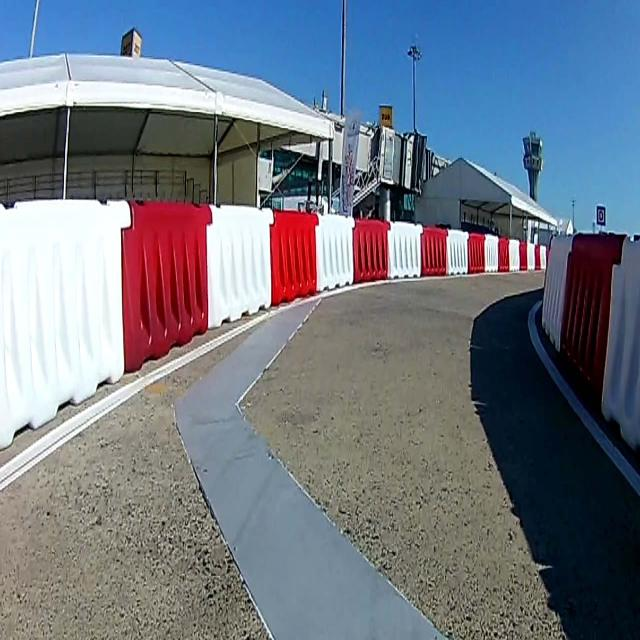durak: (595, 204, 605, 224)
